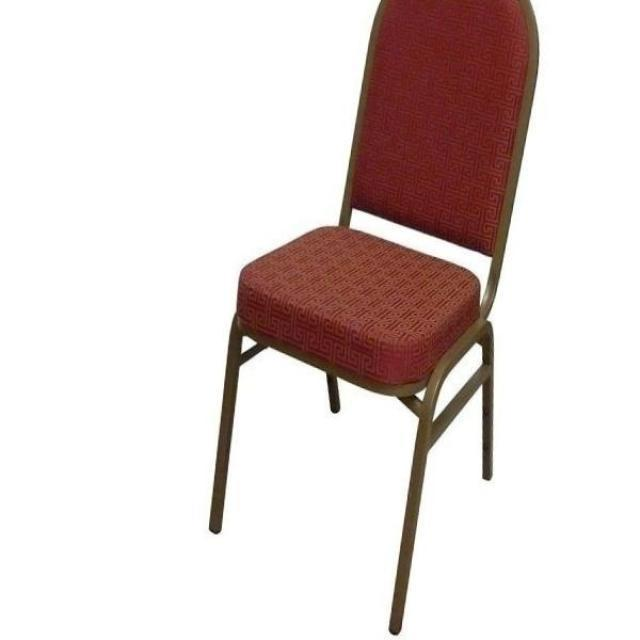chair: (204, 1, 552, 639)
